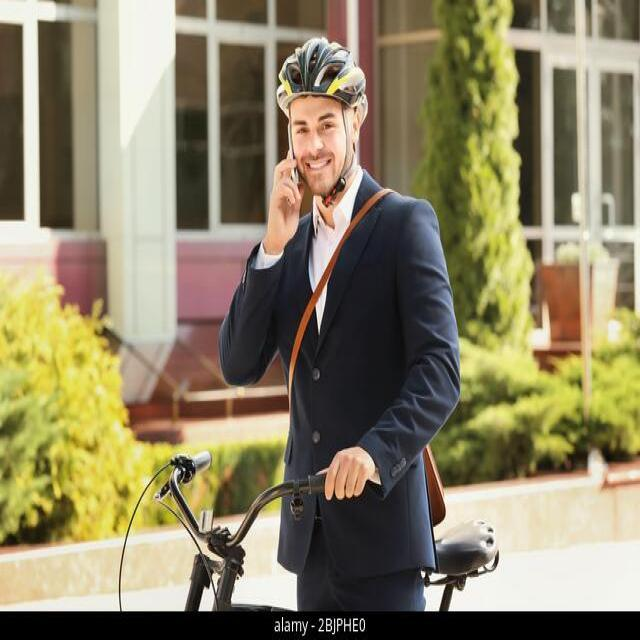Using mobile: (225, 41, 428, 261)
